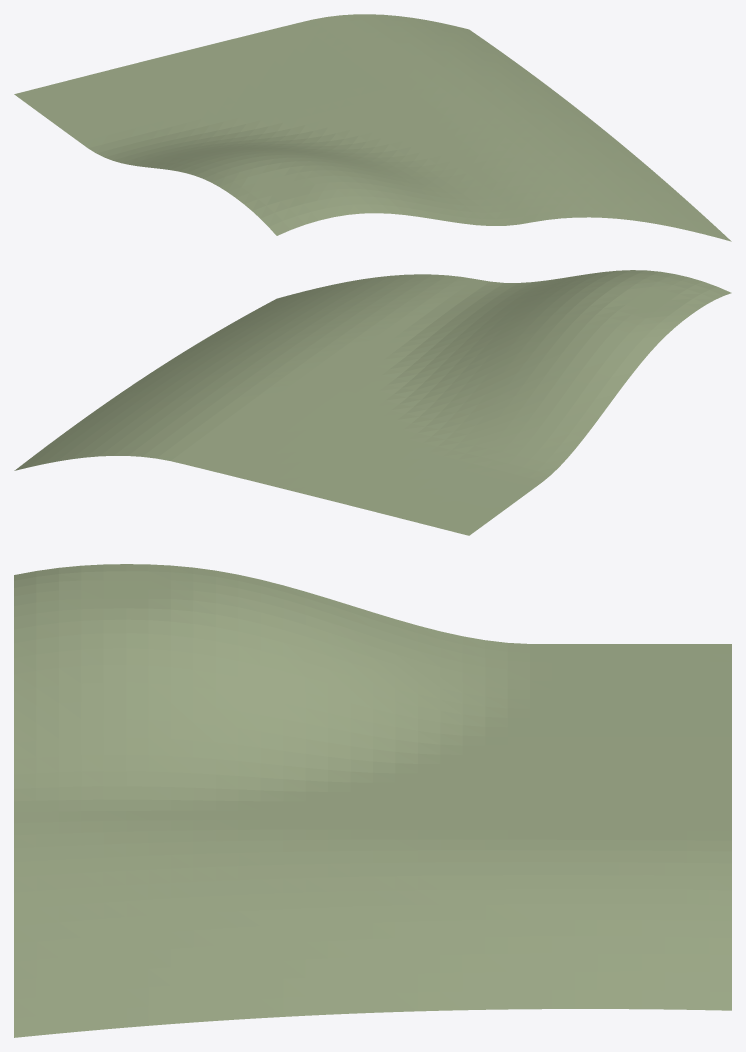
File: desert-21-18.glb
The picture shows the model from 3 angles, top to bottom: view 1: azimuth 30°, elevation 25°; view 2: azimuth 150°, elevation 25°; view 3: azimuth 270°, elevation 25°; orthographic projection. The views are drawn at different scales.
Visible parts, largest first — view 1: desert-21-18; view 2: desert-21-18; view 3: desert-21-18.
Boxes of the visible parts, bbox=[...] form: desert-21-18: bbox=[14, 14, 731, 241]; desert-21-18: bbox=[14, 270, 731, 535]; desert-21-18: bbox=[14, 564, 731, 1037].
Size of the model in its own units: 512 by 137 by 512.
